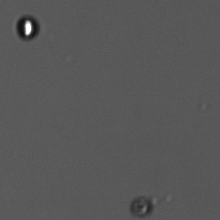Dead Cell: (127, 194, 155, 218)
Living Cell: (13, 12, 43, 43)
